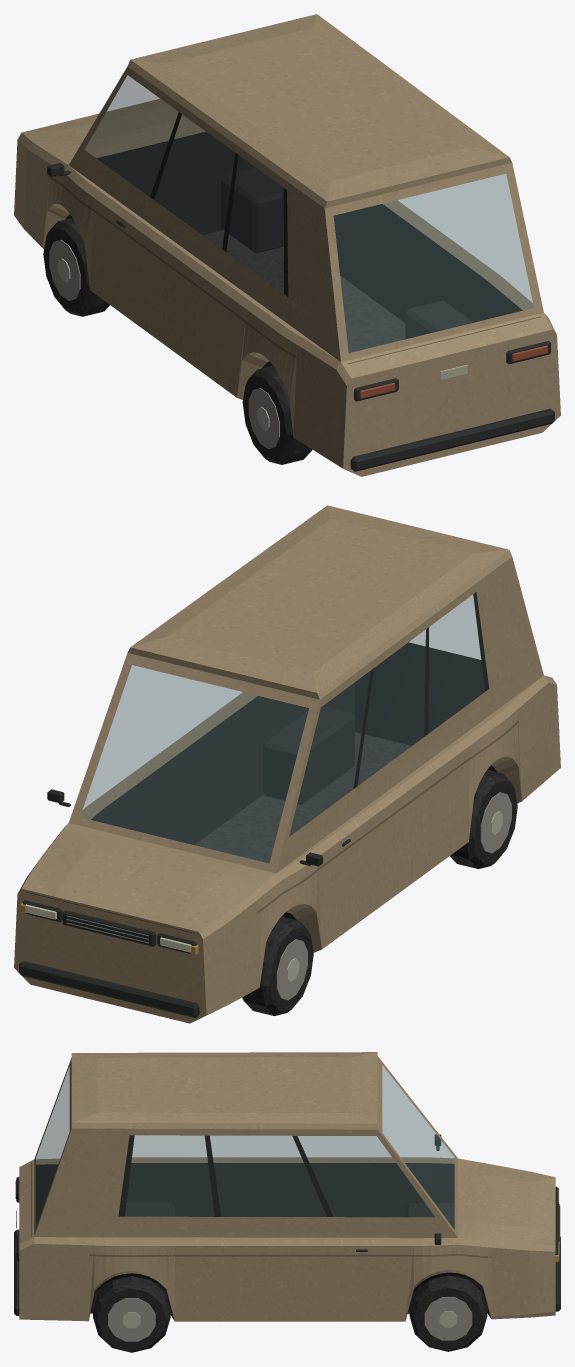
Rendered from vehicle_camper.glb.
3 renders of one model, top to bottom at view 1: azimuth 30°, elevation 25°; view 2: azimuth 150°, elevation 25°; view 3: azimuth 270°, elevation 25°, orthographic. The views are drawn at different scales.
Parts seen in each view (by area): view 1: closed_body, glazing, roof_body; view 2: closed_body, glazing, roof_body; view 3: closed_body, glazing, roof_body.
Part boxes in pixels (bbox=[...]): closed_body: bbox=[14, 66, 560, 476]; glazing: bbox=[85, 75, 533, 352]; roof_body: bbox=[127, 14, 511, 208]; closed_body: bbox=[14, 557, 560, 1023]; glazing: bbox=[80, 595, 484, 863]; roof_body: bbox=[127, 505, 511, 699]; closed_body: bbox=[14, 1056, 560, 1352]; glazing: bbox=[36, 1065, 454, 1229]; roof_body: bbox=[71, 1052, 377, 1129].
Size of the model in its own units: 2.23 by 2.25 by 4.94.
Materials: 2 (2 with a texture image).
